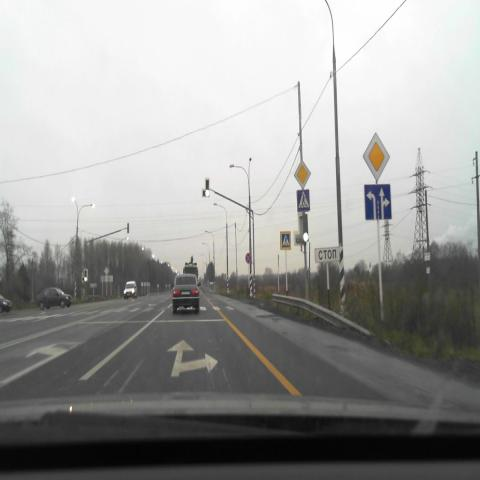2_1: (362, 132, 390, 181), (294, 160, 311, 189)
5_15_2_2: (364, 184, 392, 220)
5_19_1: (296, 189, 310, 211), (280, 231, 291, 250)
6_16: (314, 246, 340, 262)
